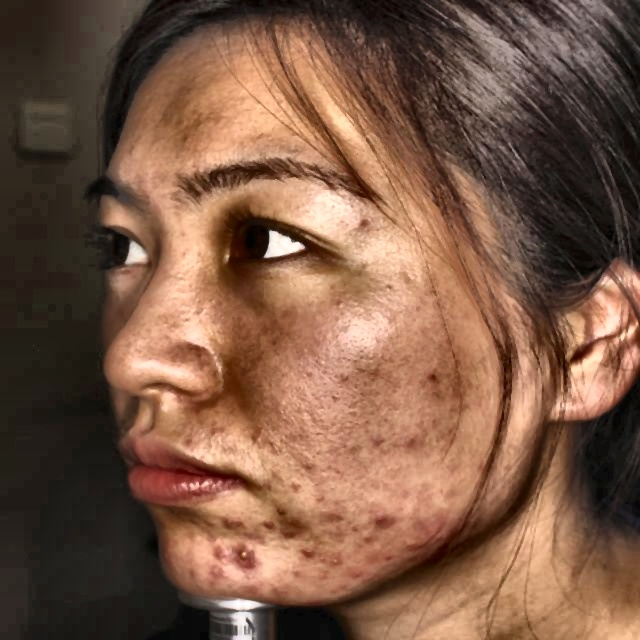pustule: (216, 512, 256, 540), (416, 513, 459, 536), (286, 515, 314, 543), (229, 542, 257, 570), (202, 564, 232, 584), (259, 515, 282, 540), (400, 533, 422, 557), (360, 546, 383, 567), (369, 510, 393, 530), (301, 539, 319, 564), (340, 564, 360, 582), (353, 533, 374, 549), (328, 549, 341, 570), (208, 543, 222, 560)
